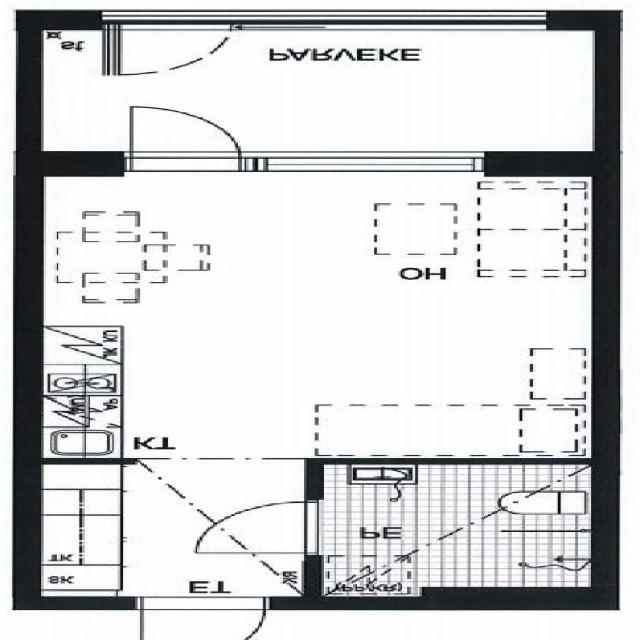door: (130, 100, 240, 177), (194, 502, 323, 552), (140, 596, 265, 640)
